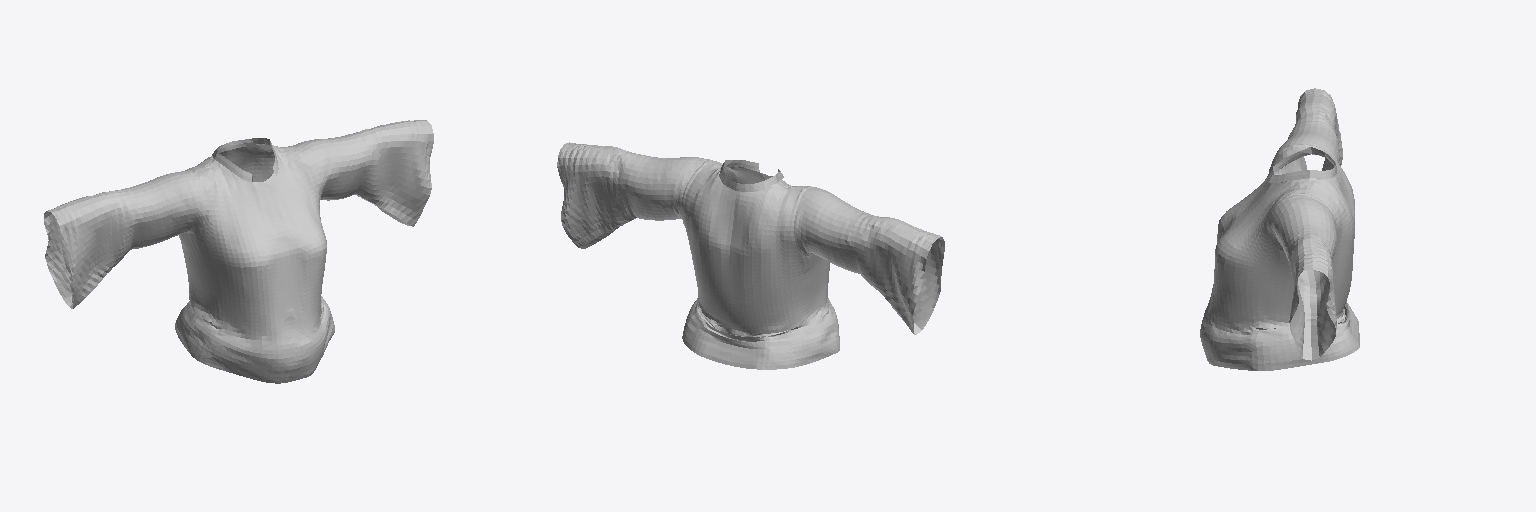
The model's file is long_shirt_full.obj.
The picture shows the model from 3 angles: view 1: azimuth 30°, elevation 25°; view 2: azimuth 150°, elevation 25°; view 3: azimuth 270°, elevation 25°; orthographic projection.
Visible parts, largest first — view 1: long_shirt; view 2: long_shirt; view 3: long_shirt.
Boxes of the visible parts, box(x1,y1,x2,y2) form: long_shirt: box(44, 120, 433, 383); long_shirt: box(557, 142, 944, 369); long_shirt: box(1200, 88, 1359, 370).
Size of the model in its own units: 1.34 by 0.68 by 0.495.